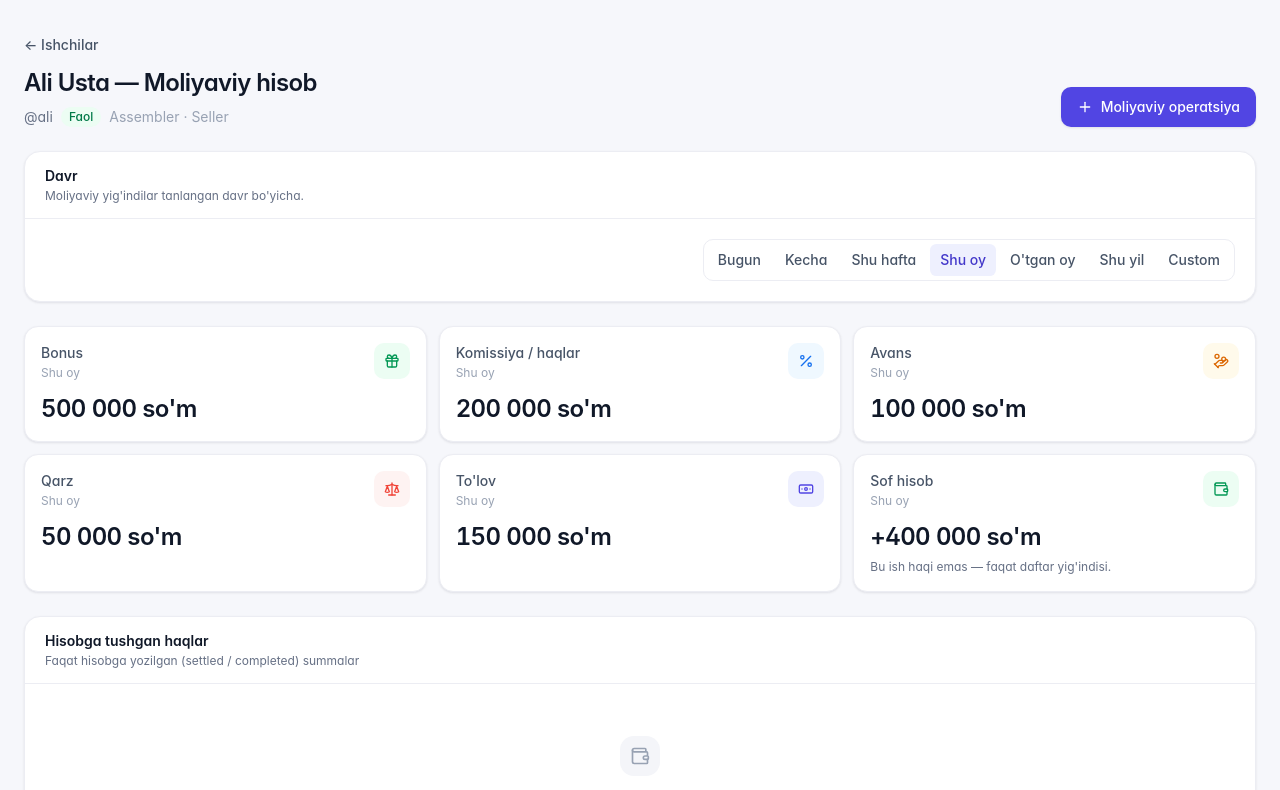
Test: WorkerFinancesPage › rejects empty and zero amount
The width and height of the screenshot is (1280, 790).
Click the button "Moliyaviy operatsiya" at (1158, 107), box [1061,87,1256,127]
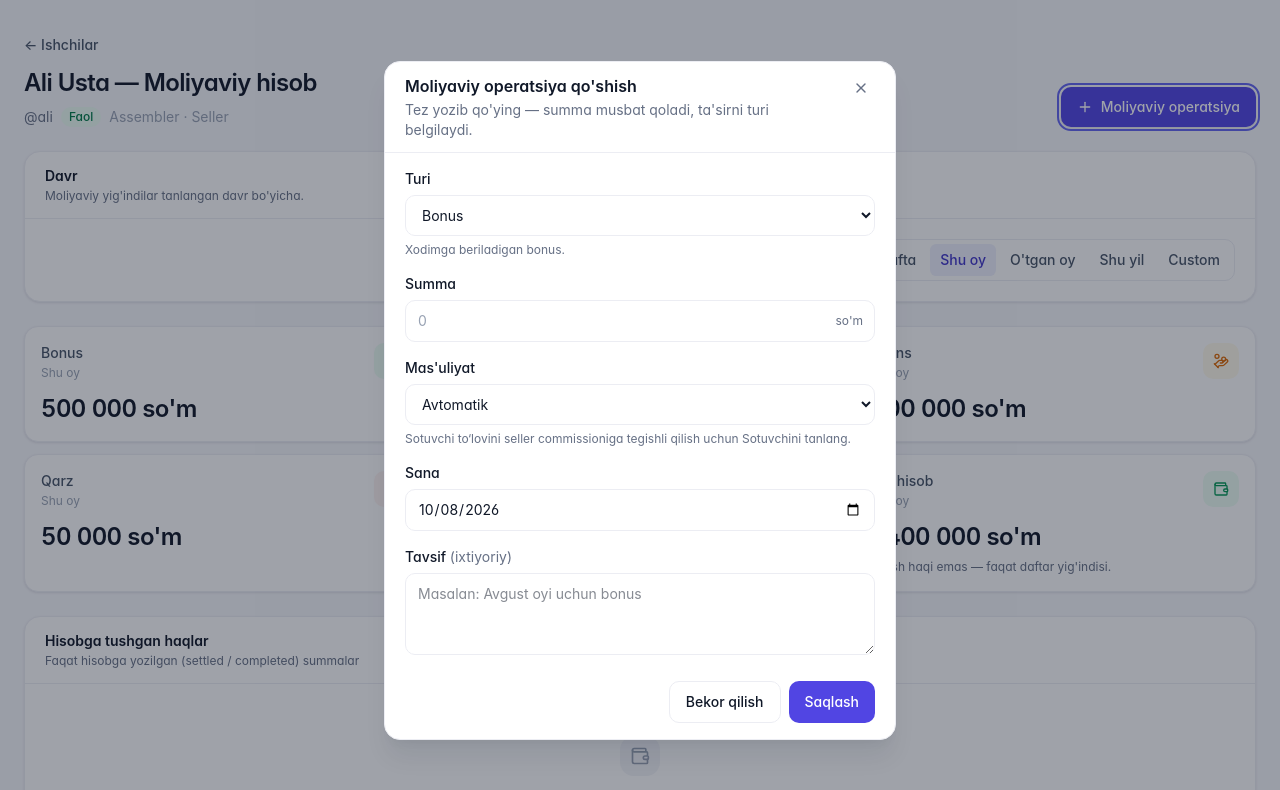
Click the button "Saqlash" at (832, 702), box [788,680,875,722]
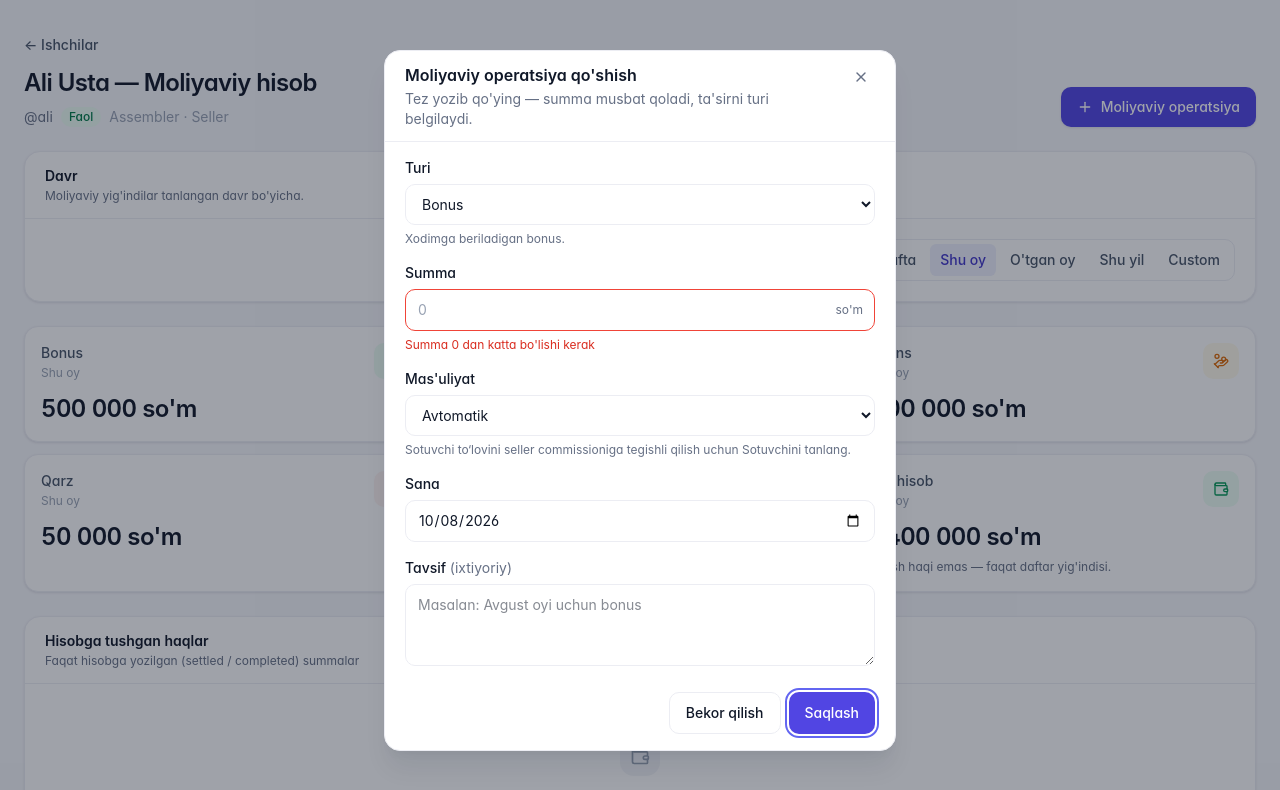
Result: the text "Summa 0 dan katta bo'lishi kerak" is shown at [405,336,595,352]
